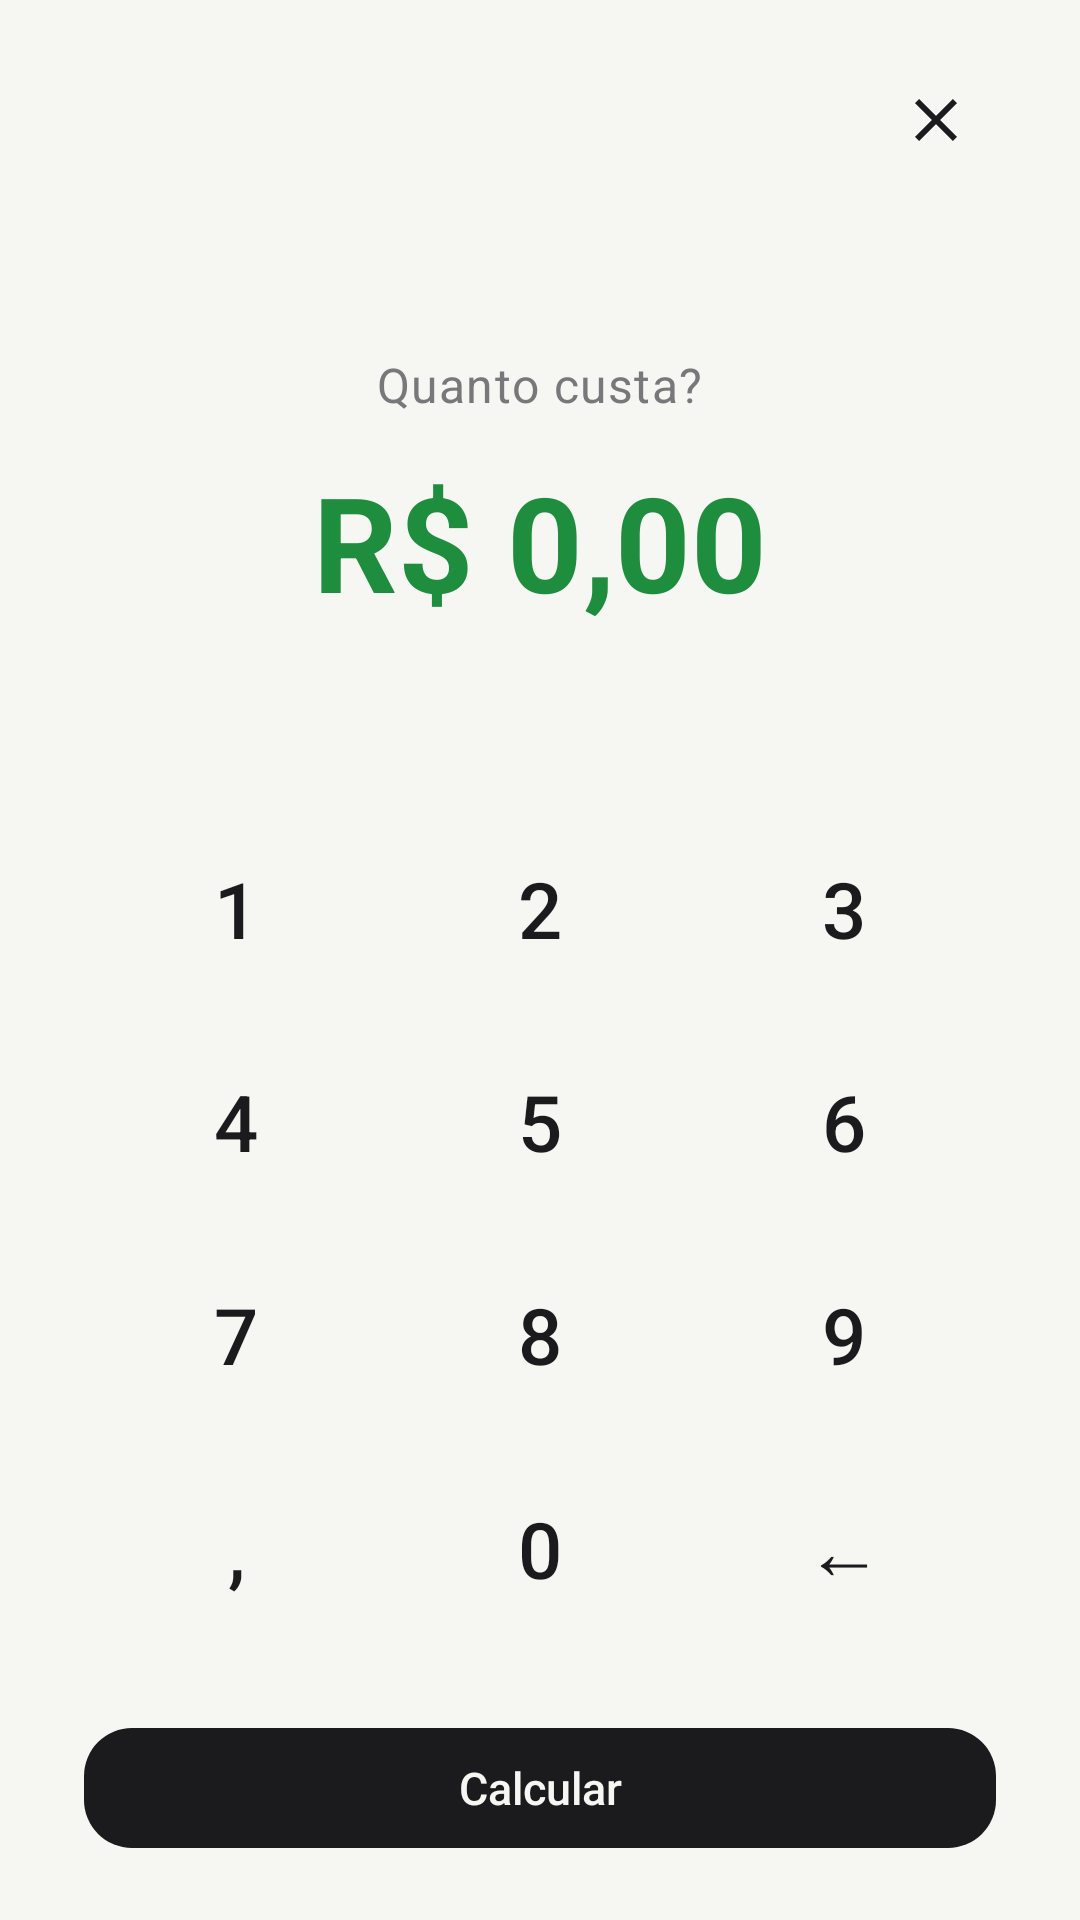

Icon bounding boxes for this 1080×1920 phone screenshot, format (x1, y1, x2, y2):
close: (915, 99, 957, 141)
